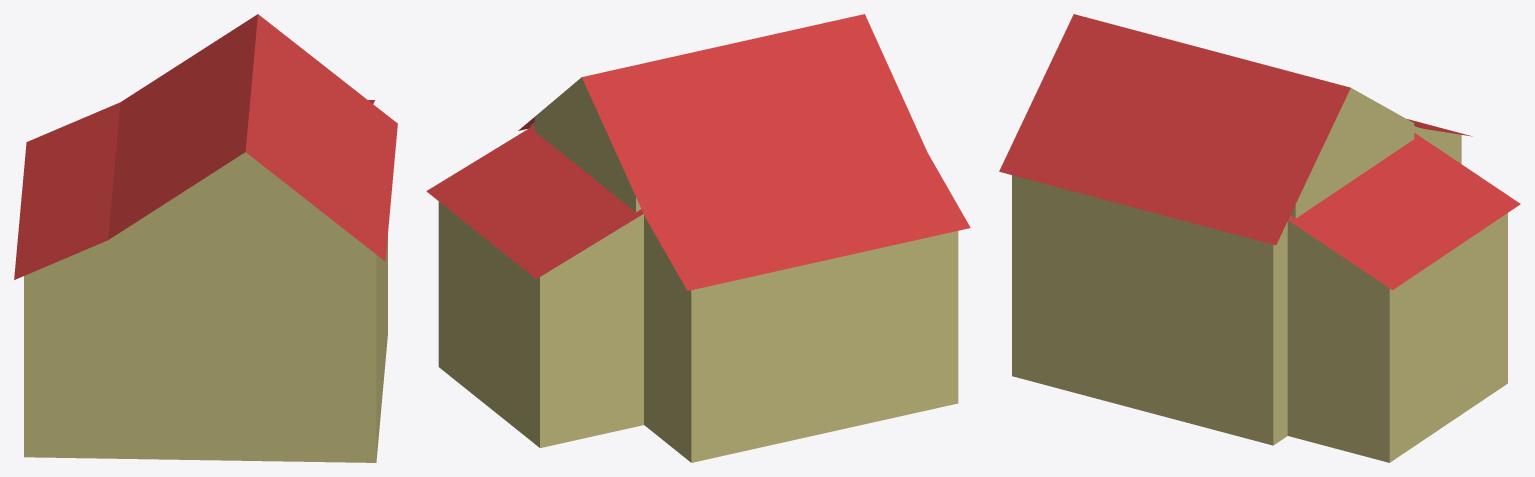
3 views of the same model, side by side, from view 1: azimuth 30°, elevation 25°; view 2: azimuth 150°, elevation 25°; view 3: azimuth 270°, elevation 25° (orthographic). The views are drawn at different scales.
Size of the model in its own units: 14.09 by 13.86 by 9.18.
